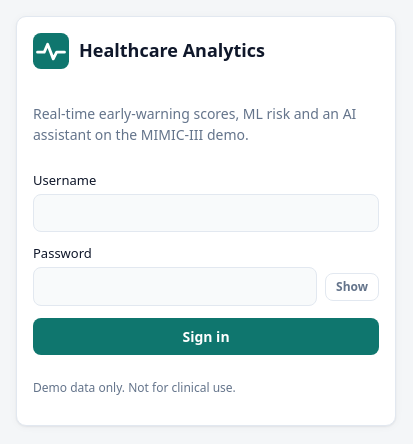
Test: LoginPage › can show and hide the typed password
The width and height of the screenshot is (413, 444).
Type "secret" into the password field labelled "Password" at (175, 287), box x1=33 y1=267 x2=317 y2=306
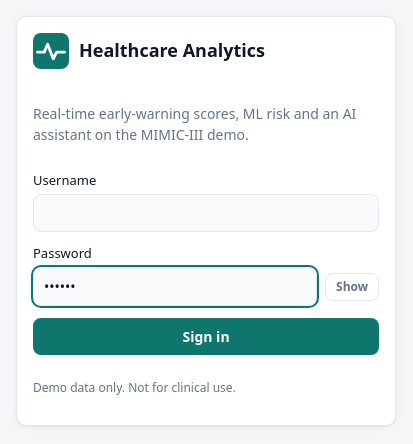
Click the button with aria-label "Show password" at (352, 287), box x1=325 y1=273 x2=379 y2=301
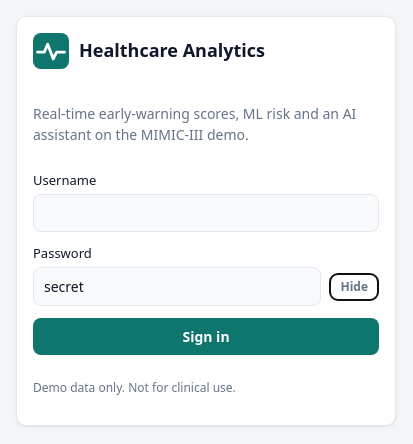
Now the field labelled "Password" shows its text, box x1=33 y1=267 x2=322 y2=306
Click the button with aria-label "Hide password" at (354, 287), box x1=330 y1=273 x2=379 y2=301
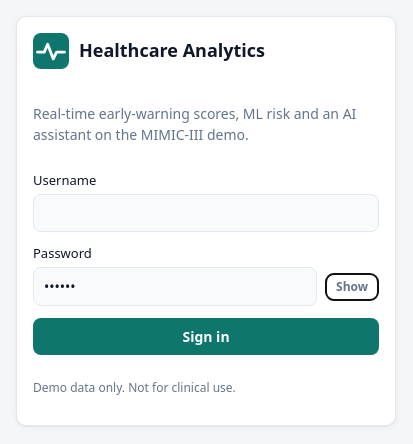
Now the password field labelled "Password" hides its text, box x1=33 y1=267 x2=317 y2=306
